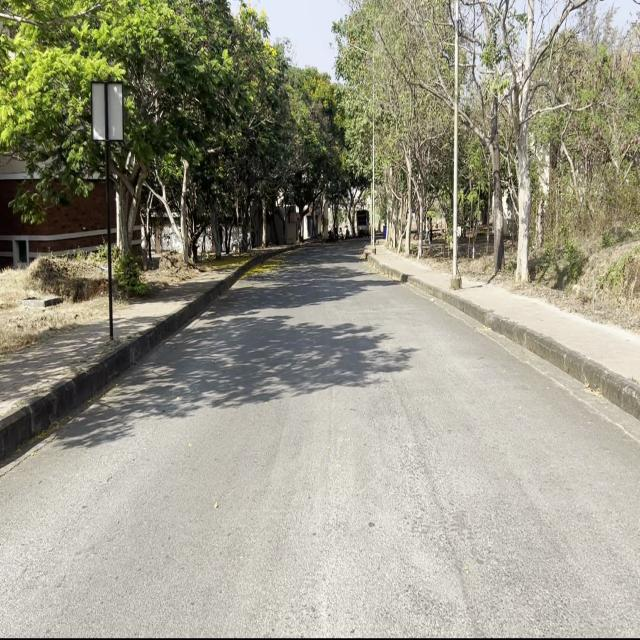Road: (4, 242, 637, 632)
